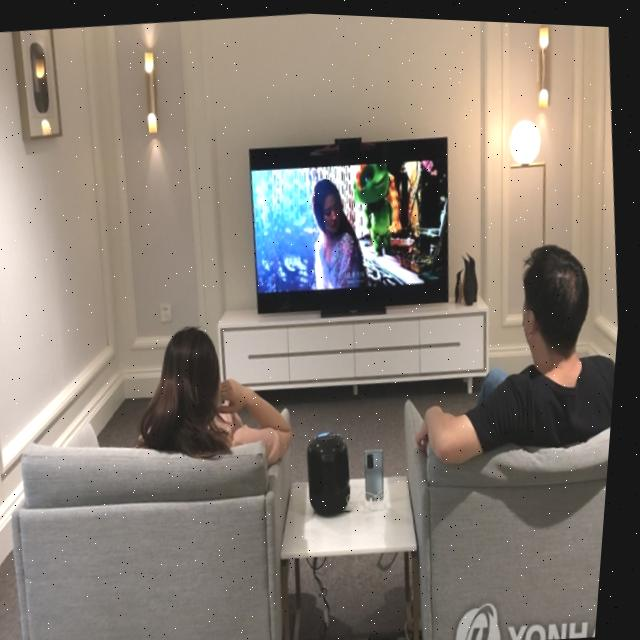tv-person: (205, 70, 636, 524), (113, 89, 483, 447)
